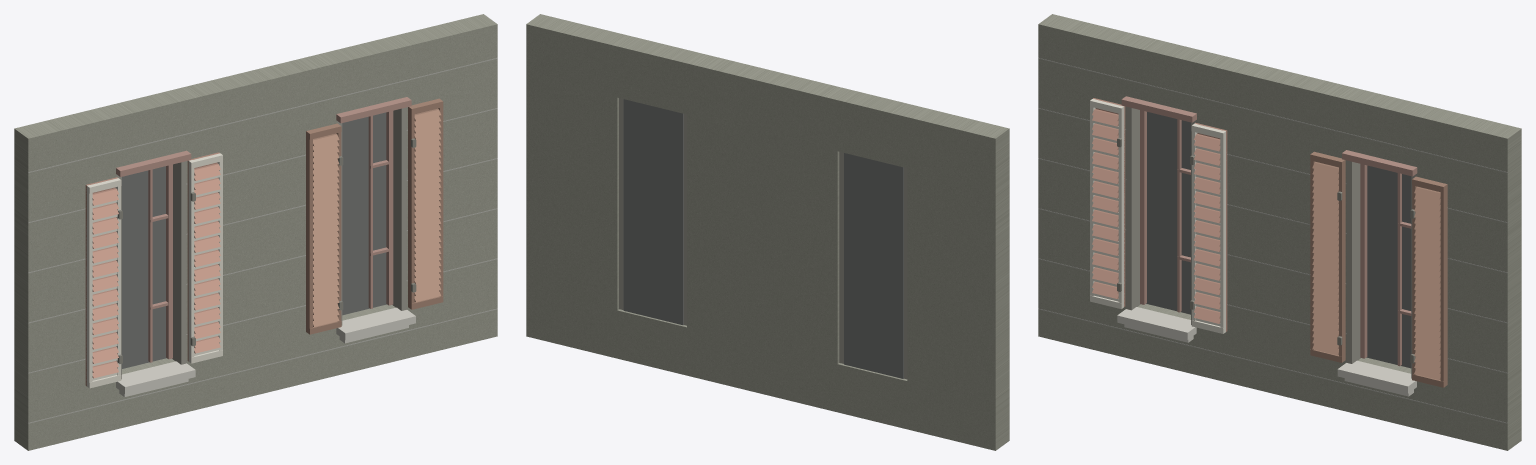
The model's file is gude-fang-street-shutter-pair-far.glb.
The picture shows the model from 3 angles, left to right: view 1: azimuth 30°, elevation 25°; view 2: azimuth 150°, elevation 25°; view 3: azimuth 330°, elevation 25°; orthographic projection.
Visible parts, largest first — view 1: 顾德坊沿街两窗的红白百叶与褐色木叶; view 2: 顾德坊沿街两窗的红白百叶与褐色木叶; view 3: 顾德坊沿街两窗的红白百叶与褐色木叶.
Boxes of the visible parts, x1,y1,x2,y2 form: 顾德坊沿街两窗的红白百叶与褐色木叶: (14, 14, 497, 450); 顾德坊沿街两窗的红白百叶与褐色木叶: (526, 14, 1009, 450); 顾德坊沿街两窗的红白百叶与褐色木叶: (1038, 14, 1521, 450).
Size of the model in its own units: 3.43 by 2.18 by 0.291.
10 materials, 1 textured.
